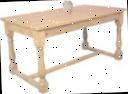Mesa: (1, 4, 127, 93)
